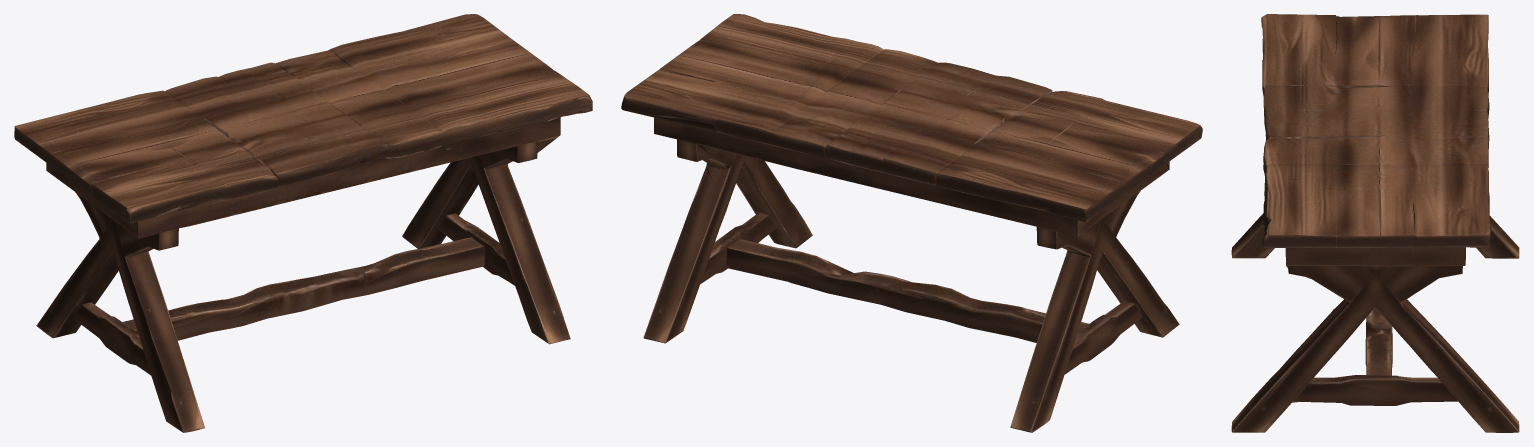
The model's file is table.glb.
3 renders of one model, left to right at view 1: azimuth 30°, elevation 25°; view 2: azimuth 150°, elevation 25°; view 3: azimuth 270°, elevation 25°, orthographic. The views are drawn at different scales.
Visible parts, largest first — view 1: table; view 2: table; view 3: table.
Part boxes in pixels (x1,y1,x2,y2): table: [14, 14, 592, 432]; table: [621, 14, 1202, 432]; table: [1231, 14, 1519, 432].
Bounding box in the file's own units: 1.7 × 0.78 × 0.9342.
1 material, 1 textured.
